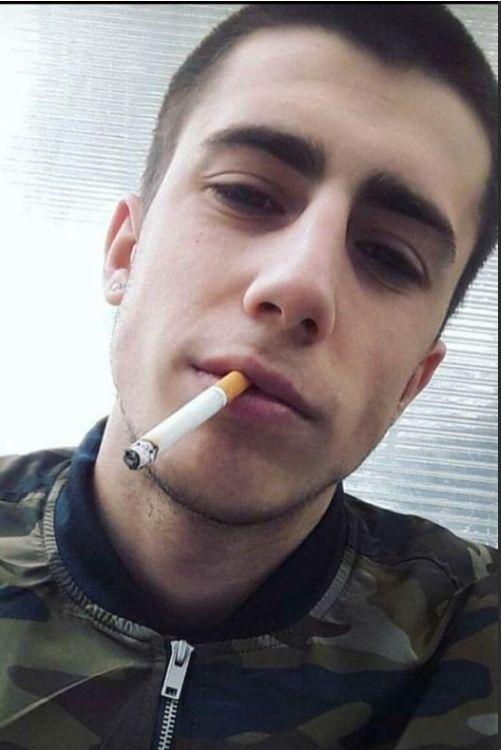cigarette: (123, 371, 249, 470)
